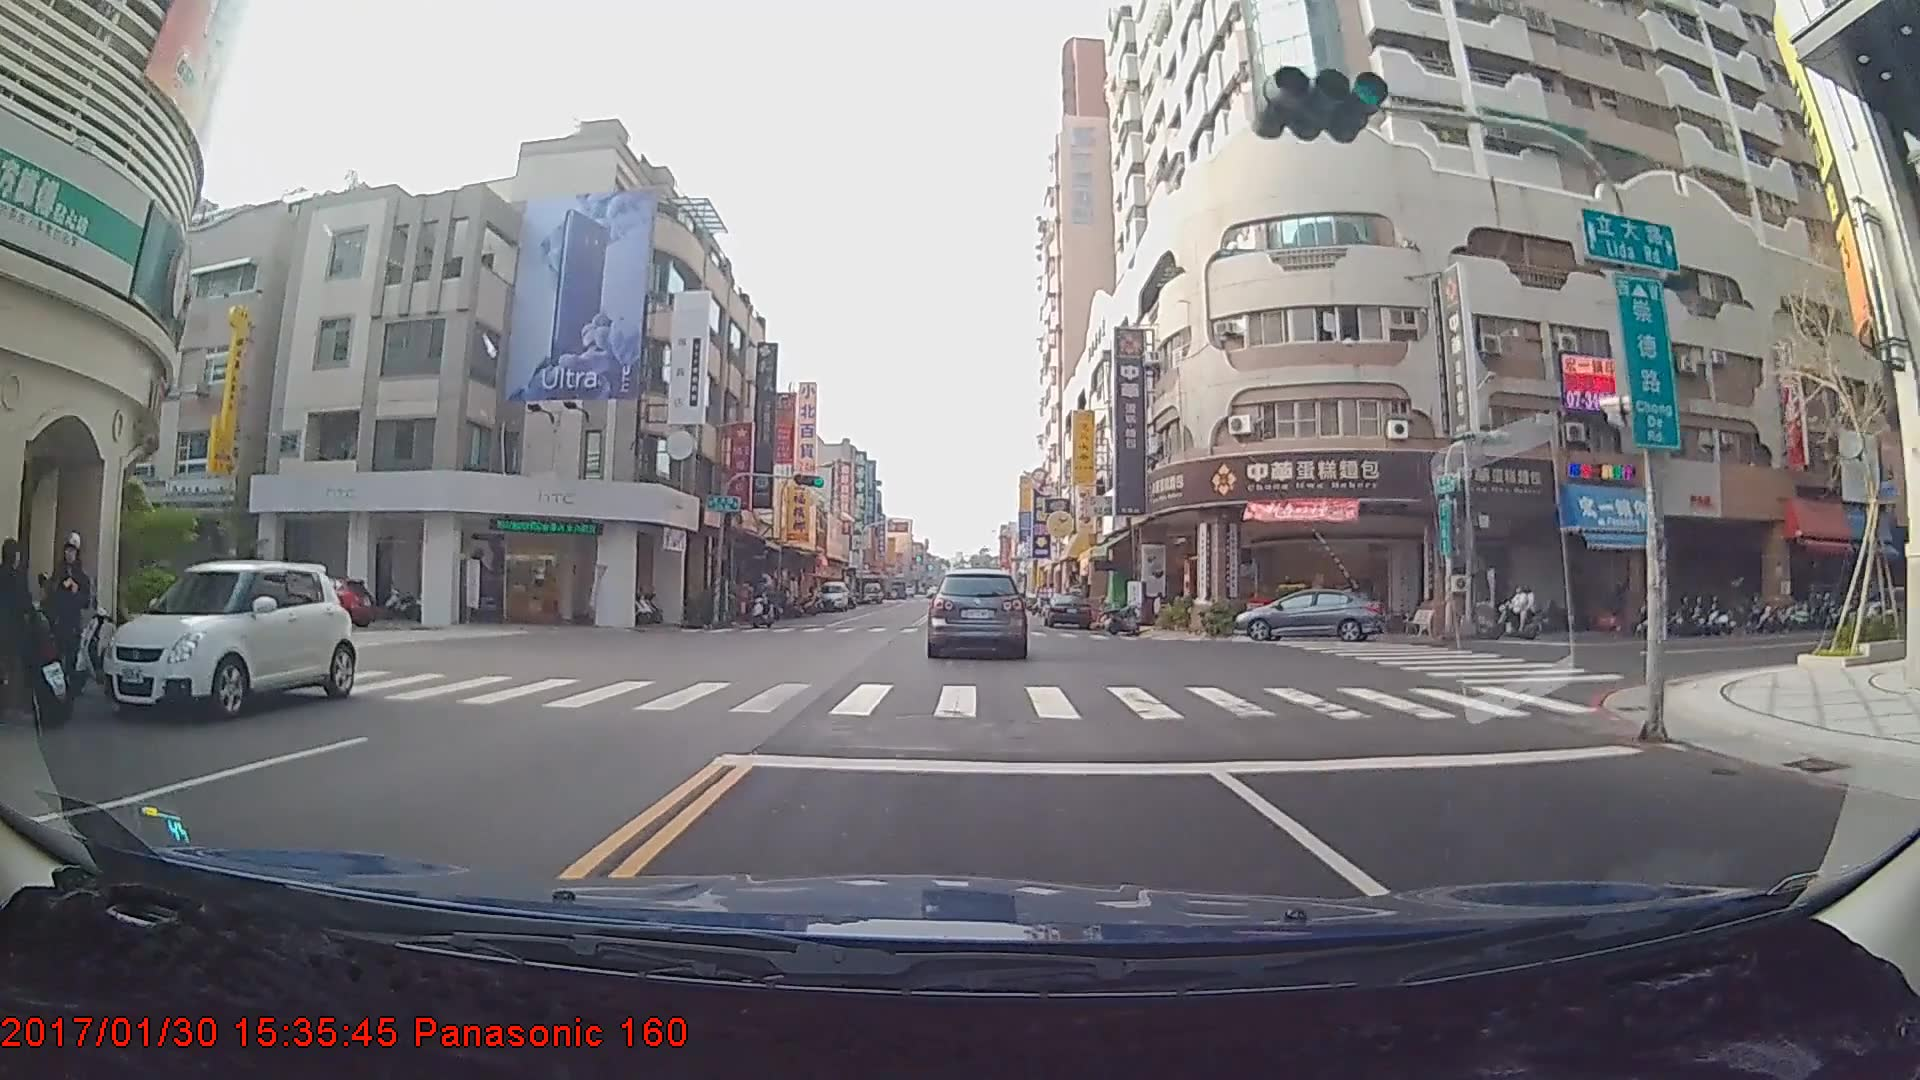pedestrian: (28, 524, 87, 711)
rider: (1486, 588, 1546, 641), (744, 579, 778, 633)
vehicle: (109, 561, 357, 717), (926, 568, 1027, 658), (1231, 588, 1385, 642), (1044, 594, 1092, 631), (816, 581, 849, 612)
